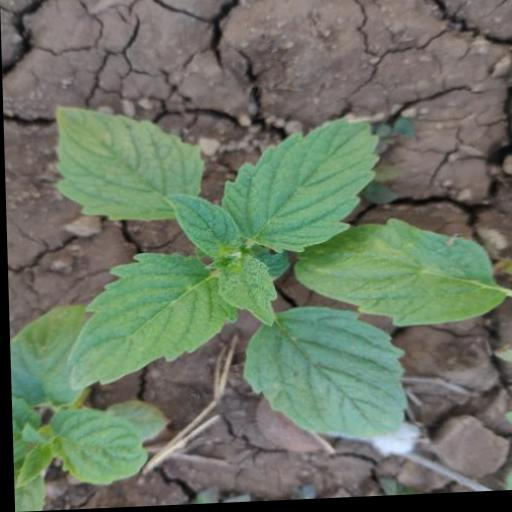crop: (3, 96, 492, 512)
